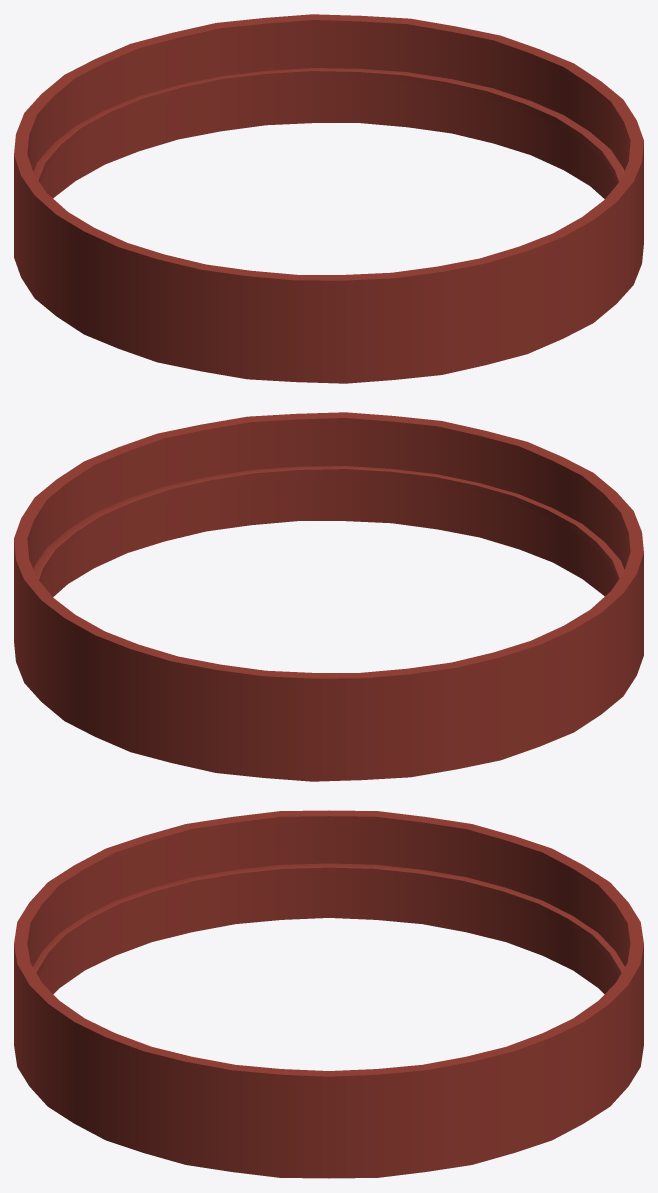
The model's file is Wall UV.fbx.
3 views of the same model, one above another, from view 1: azimuth 30°, elevation 25°; view 2: azimuth 150°, elevation 25°; view 3: azimuth 270°, elevation 25° (orthographic).
Visible parts, largest first — view 1: pasted__pCylinder1; view 2: pasted__pCylinder1; view 3: pasted__pCylinder1.
Boxes of the visible parts, x1,y1,x2,y2 form: pasted__pCylinder1: (14,14,643,383); pasted__pCylinder1: (14,412,643,781); pasted__pCylinder1: (14,810,643,1178).
Size of the model in its own units: 9.53 by 1.72 by 9.53.
